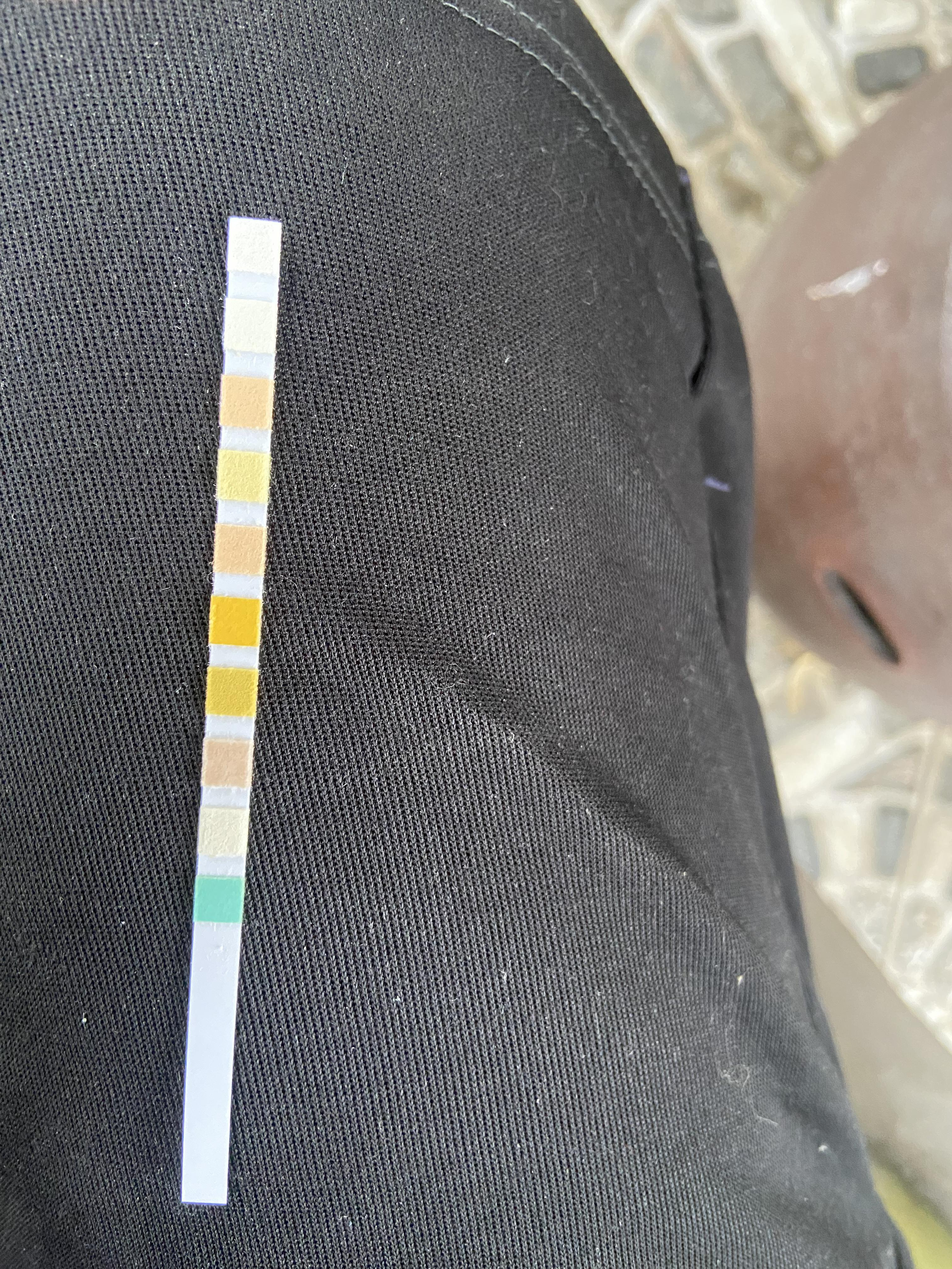Bilirubin: (201, 810, 246, 855)
Blood: (212, 599, 259, 644)
Glucose: (198, 879, 241, 919)
Ketone: (204, 741, 251, 787)
Leukocytes: (230, 223, 281, 273)
Nitrite: (225, 302, 276, 350)
Protein: (218, 455, 268, 501)
SpGravity: (209, 670, 255, 714)
Urobilinogen: (222, 381, 270, 427)
pH: (217, 528, 264, 574)
strip: (182, 216, 283, 1205)
